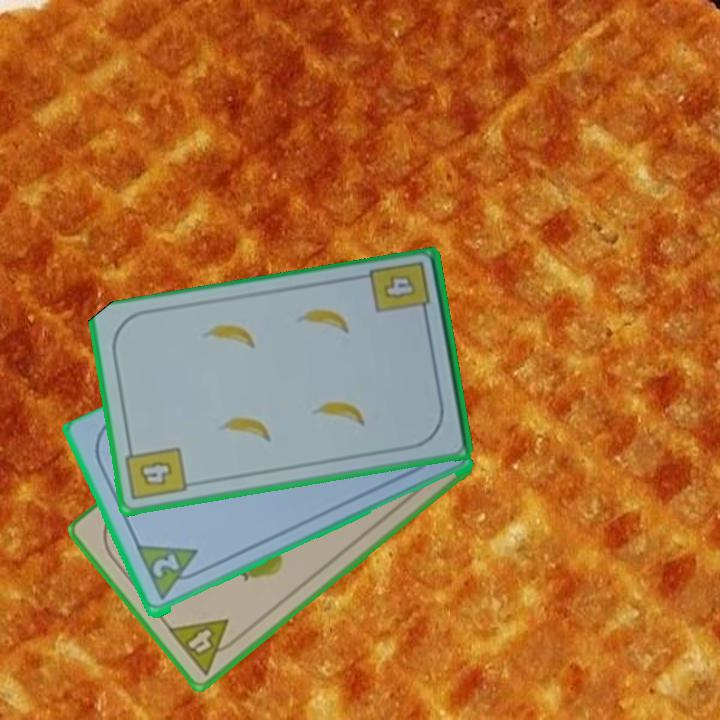2p: (148, 550, 182, 581)
4b: (367, 258, 434, 324), (122, 441, 190, 504)
4p: (164, 615, 245, 678)
